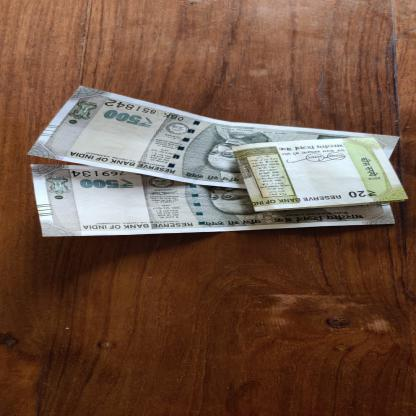New20Back: (231, 137, 410, 213)
New500Front: (25, 85, 401, 189), (30, 164, 397, 238)
